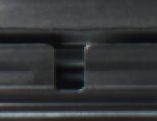oneu: (43, 37, 92, 97)
